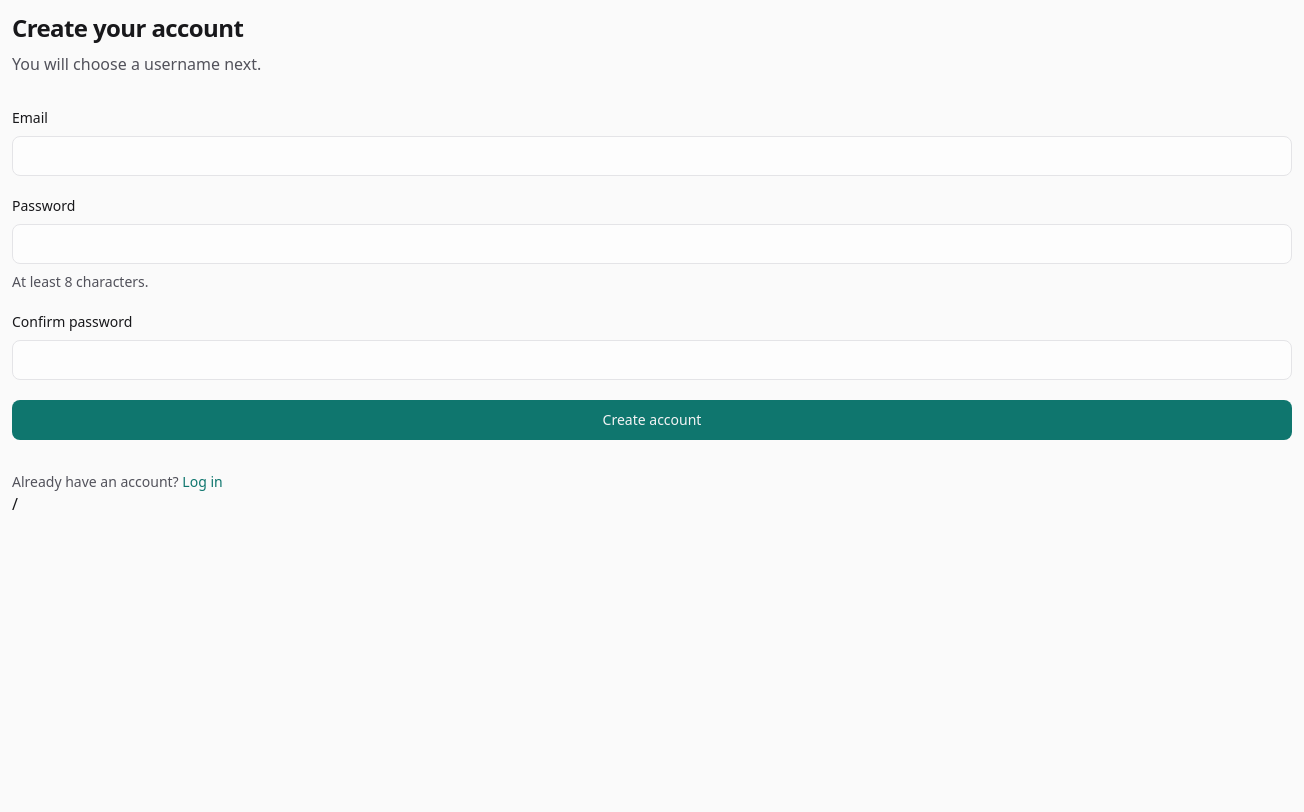
Test: Register › shows sign-up errors
Step 1. Type "maya@example.test" into the field labelled "Email" → coordinates (652, 156), box [12,136,1292,176]
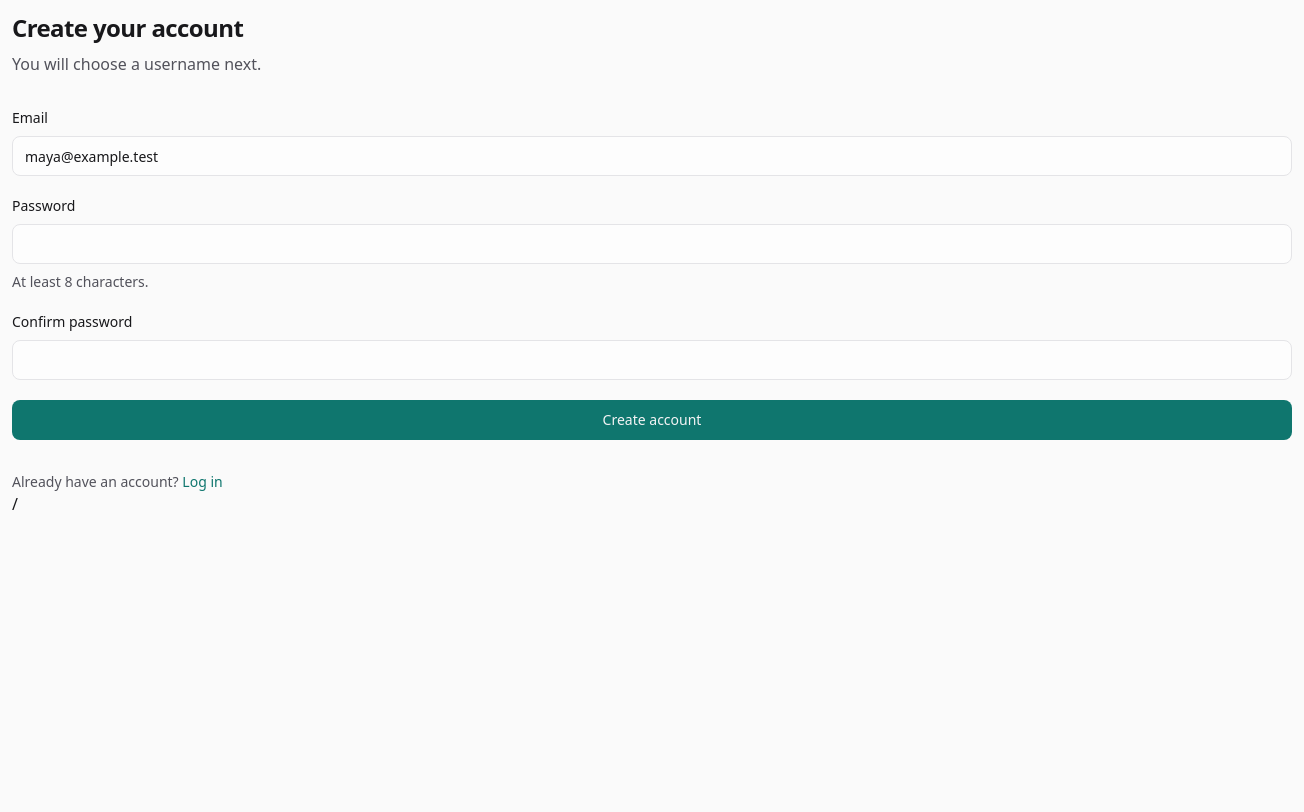
Step 2. Type "password1" into the password field labelled "Password" → coordinates (652, 244), box [12,224,1292,264]
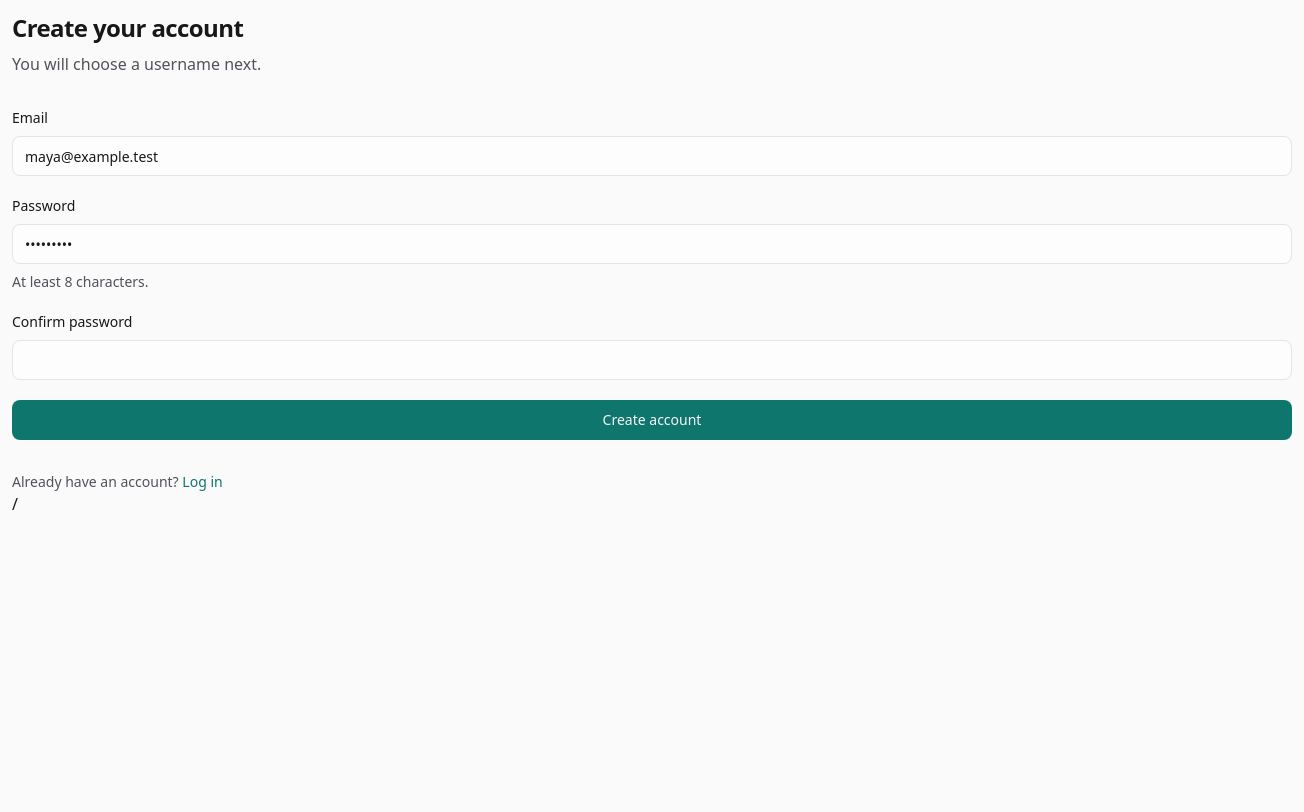
Step 3. Type "password1" into the password field labelled "Confirm password" → coordinates (652, 360), box [12,340,1292,380]
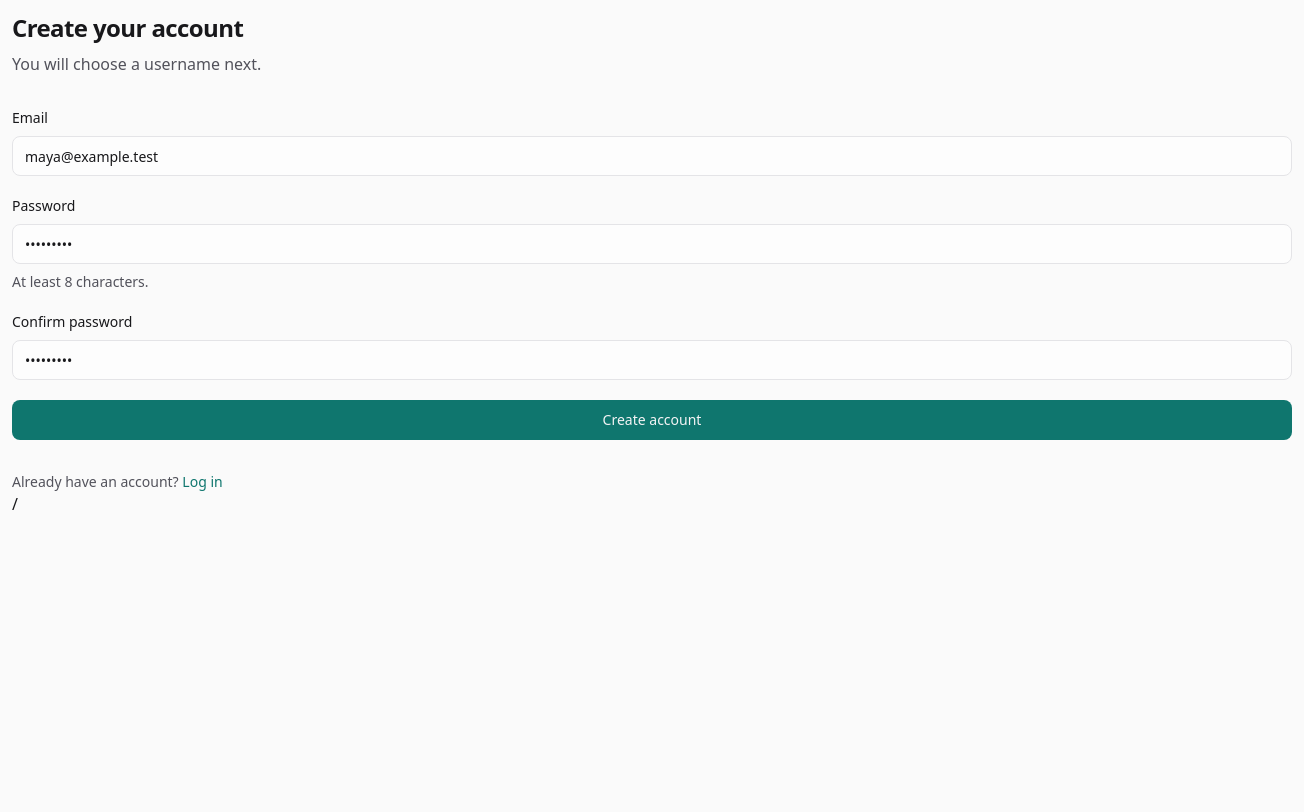
Step 4. Click the button "Create account" → coordinates (652, 420), box [12,400,1292,440]
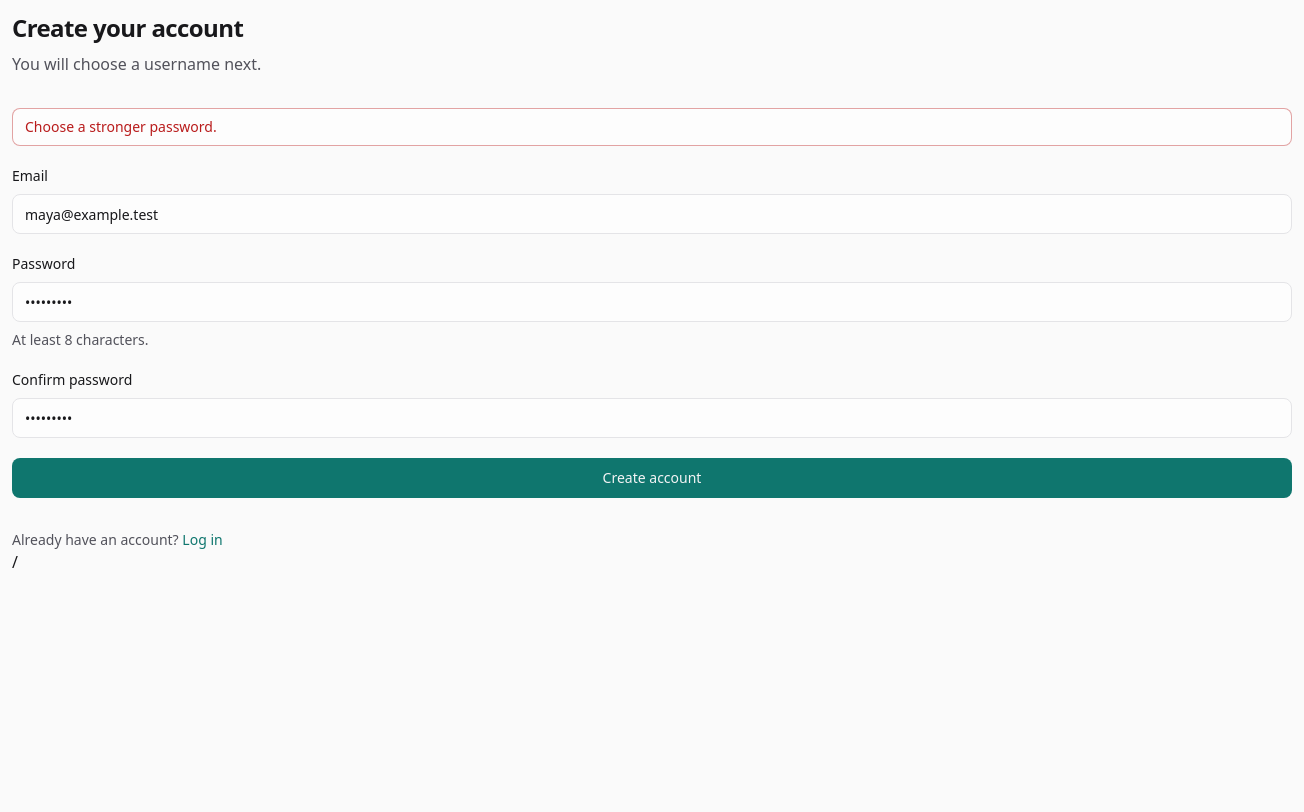
Expected: the message reads "Choose a stronger password.", [25,117,217,136]
